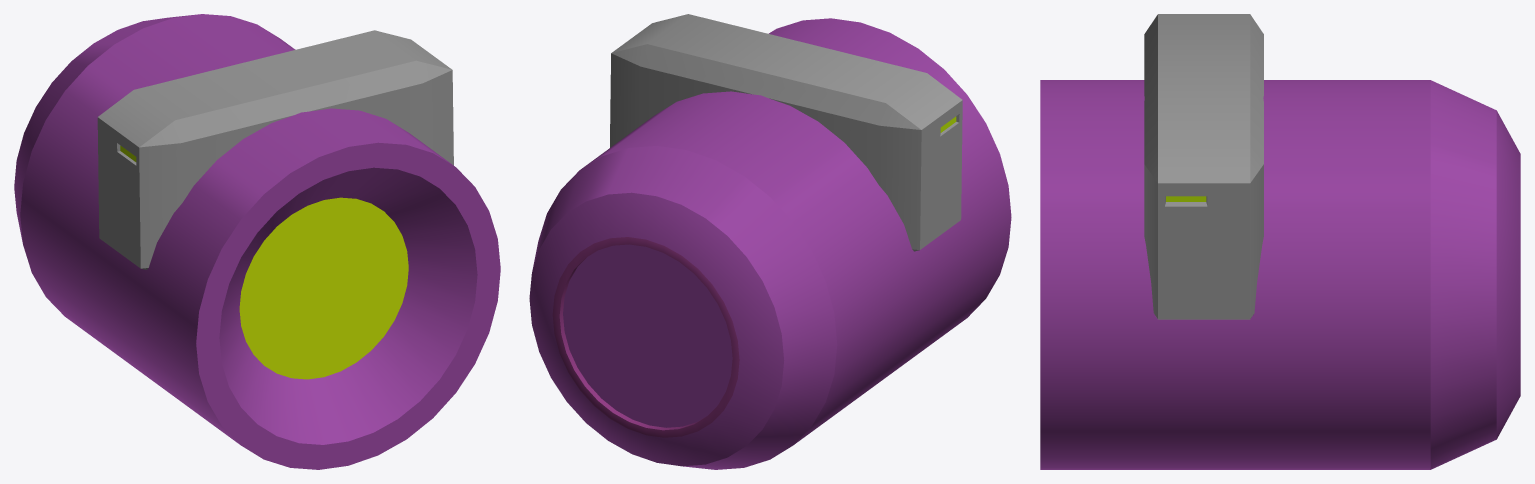
The model's file is beam.glb.
3 renders of one model, left to right at view 1: azimuth 30°, elevation 25°; view 2: azimuth 150°, elevation 25°; view 3: azimuth 270°, elevation 25°, orthographic. The views are drawn at different scales.
Visible parts, largest first — view 1: beam-1; view 2: beam-1; view 3: beam-1.
Part boxes in pixels (x1=…): beam-1: x1=14, y1=14, x2=500, y2=469; beam-1: x1=529, y1=14, x2=1011, y2=469; beam-1: x1=1040, y1=14, x2=1520, y2=469.
Size of the model in its own units: 2.77 by 2.83 by 3.3.
